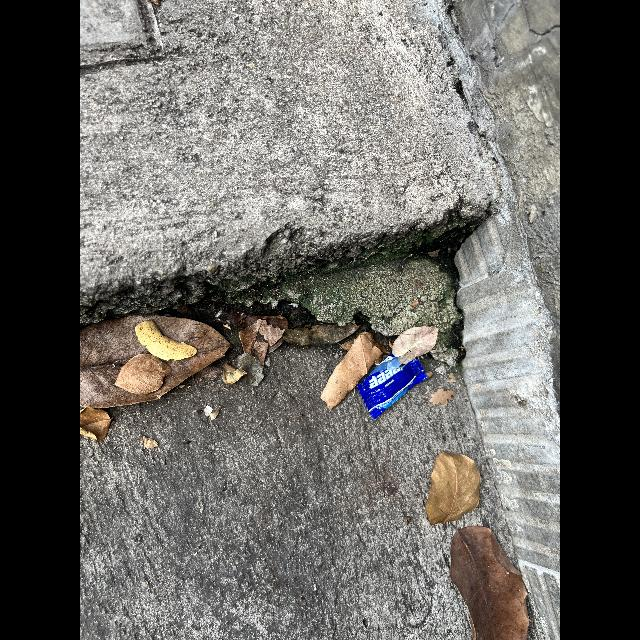scrap_plastic: (354, 346, 431, 420)
